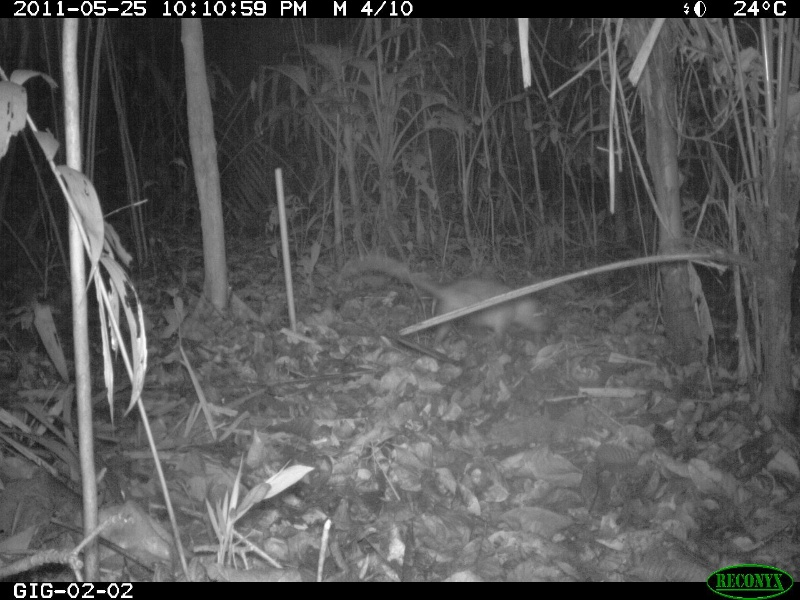opossum: (339, 252, 553, 341)
